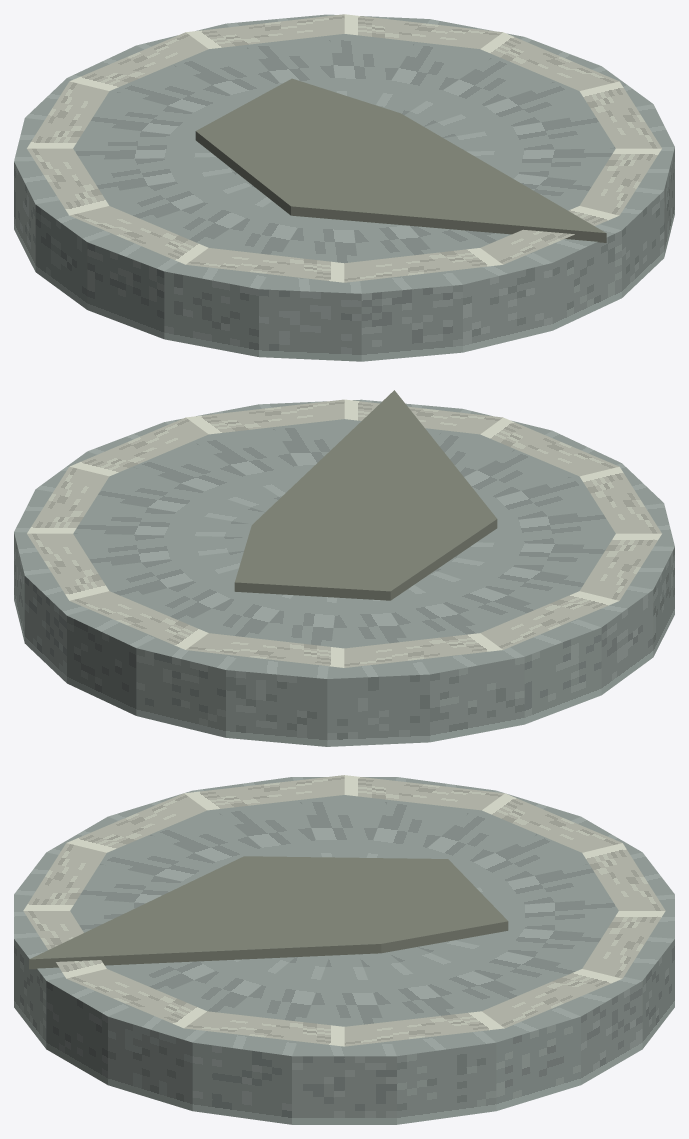
The model's file is coin_nickel.glb.
3 renders of one model, top to bottom at view 1: azimuth 30°, elevation 25°; view 2: azimuth 150°, elevation 25°; view 3: azimuth 270°, elevation 25°, orthographic.
Parts seen in each view (by area): view 1: block_minted disc, block_raised profile, block_rim 9, block_rim 10, block_rim 3, block_rim 4, block_rim 5, block_rim 8, block_rim 11, block_rim 1, block_rim 6, block_rim 0 (+2 smaller); view 2: block_minted disc, block_raised profile, block_rim 1, block_rim 7, block_rim 8, block_rim 6, block_rim 9, block_rim 0, block_rim 3, block_rim 5, block_rim 10, block_rim 4 (+2 smaller); view 3: block_minted disc, block_raised profile, block_rim 0, block_rim 11, block_rim 5, block_rim 6, block_rim 4, block_rim 7, block_rim 1, block_rim 10, block_rim 3, block_rim 8 (+2 smaller).
Part boxes in pixels (<box>): block_minted disc: <box>14,14,674,361</box>; block_raised profile: <box>195,78,606,242</box>; block_rim 9: <box>186,14,344,48</box>; block_rim 10: <box>344,14,502,48</box>; block_rim 3: <box>344,248,502,282</box>; block_rim 4: <box>186,248,344,282</box>; block_rim 5: <box>70,206,208,264</box>; block_rim 8: <box>70,32,208,90</box>; block_rim 11: <box>480,32,618,90</box>; block_rim 1: <box>579,148,661,215</box>; block_rim 6: <box>27,148,109,215</box>; block_rim 0: <box>579,81,661,148</box>; block_minted disc: <box>14,399,674,746</box>; block_raised profile: <box>234,390,497,600</box>; block_rim 1: <box>186,399,344,434</box>; block_rim 7: <box>344,633,502,667</box>; block_rim 8: <box>186,633,344,667</box>; block_rim 6: <box>480,591,618,649</box>; block_rim 9: <box>70,591,208,649</box>; block_rim 0: <box>70,417,208,476</box>; block_rim 3: <box>480,417,618,476</box>; block_rim 5: <box>580,533,661,600</box>; block_rim 10: <box>27,533,108,600</box>; block_rim 4: <box>579,466,661,533</box>; block_minted disc: <box>14,777,674,1124</box>; block_raised profile: <box>29,856,508,969</box>; block_rim 0: <box>184,1011,344,1046</box>; block_rim 11: <box>344,1011,504,1046</box>; block_rim 5: <box>184,775,344,810</box>; block_rim 6: <box>344,775,504,810</box>; block_rim 4: <box>67,793,206,852</box>; block_rim 7: <box>482,793,621,852</box>; block_rim 1: <box>67,969,206,1028</box>; block_rim 10: <box>482,969,621,1028</box>; block_rim 3: <box>23,843,106,910</box>; block_rim 8: <box>582,843,665,910</box>.
Bounding box in the file's own units: 0.0209 × 0.00273 × 0.0209.
Materials: 1 (1 with a texture image).
